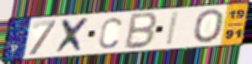7: (28, 19, 58, 56)
B: (122, 11, 160, 50)
C: (97, 16, 124, 51)
I: (164, 11, 181, 47)
O: (192, 8, 226, 44)
X: (54, 16, 93, 55)
